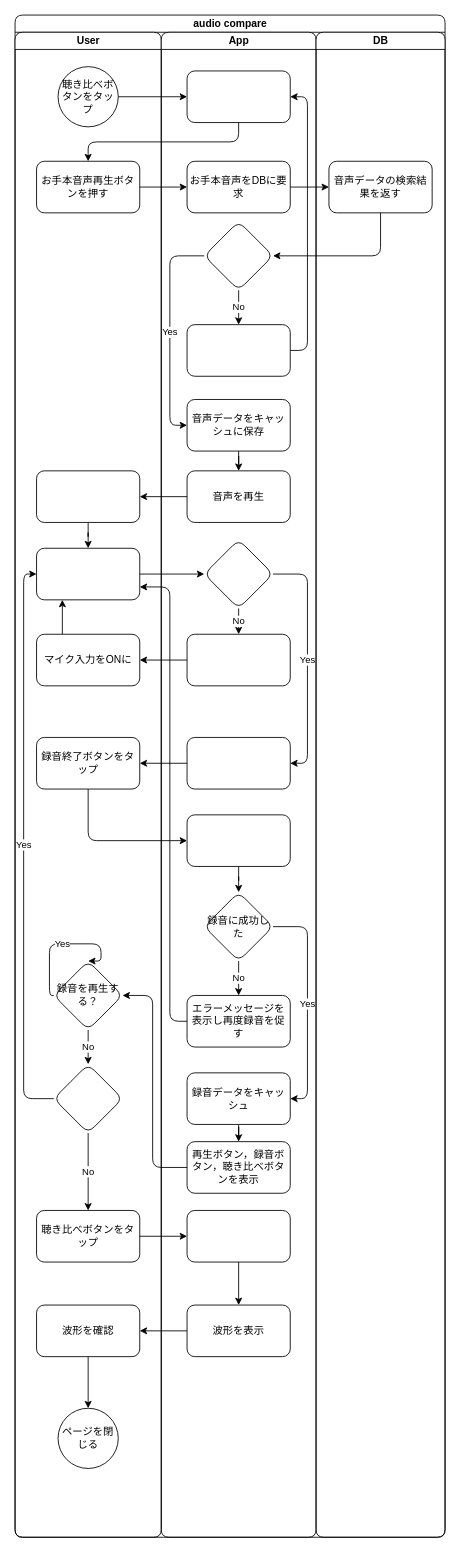
Some shapes in this 460 by 1552 pixel diagram are drawn without their labels. The centre of each missing label's shape, as x and y in pixels:
"「マイク入力をONにしてください」というメッセージを表示" goes at point (238, 659).
"エラーメッセージを表示" goes at point (238, 350).
"キャッシュされた音声を波形データに変換" goes at point (238, 1236).
"マイク入力がONか？" goes at point (238, 573).
"聴き比べ画面を表示" goes at point (238, 96).
"録音を開始" goes at point (238, 763).
"録音データを解析" goes at point (238, 840).
"録音開始ボタンをタップ" goes at point (88, 573).
"音声を視聴" goes at point (88, 496).
"音声を録り直す？" goes at point (88, 1098).
"音声データを正しく取得できたか？" goes at point (238, 255).
